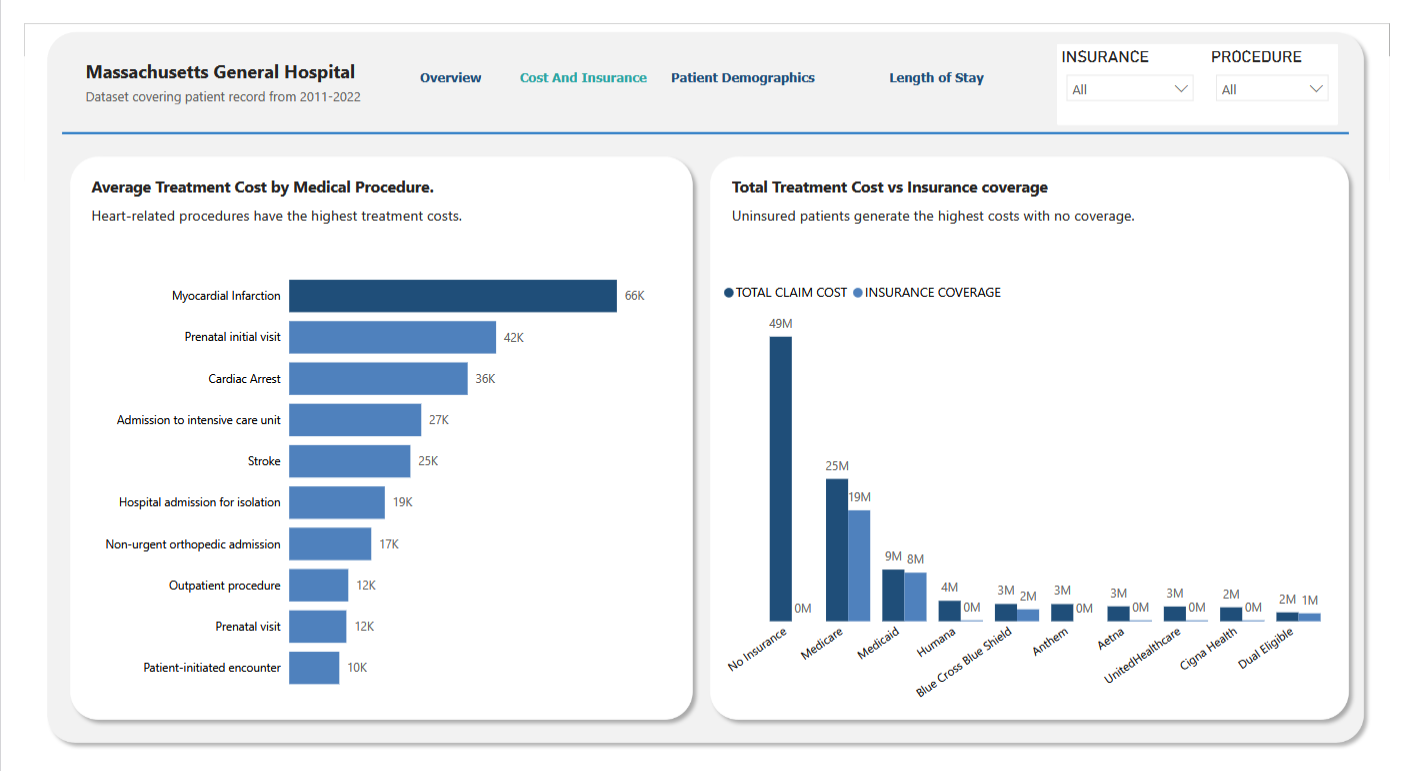

Layout of this report page (visuals, bound fields, positions):
{"tool":"powerbi","page":{"name":"COST AND INSURANCE","canvas":[1405,750],"ordinal":1},"visuals":[{"type":"shape","box":[14,0,1374.5,749.6],"z":0},{"type":"textbox","title":"Massachusetts General Hospital","box":[56.7,36.2,315,77.2],"z":1000},{"type":"shape","box":[37.8,105.5,1326.1,14.2],"z":2000},{"type":"actionButton","box":[377.2,35.4,122.7,40.4],"z":3000},{"type":"actionButton","box":[500.2,35.8,149.6,40.5],"z":4000},{"type":"actionButton","box":[649.9,35.8,179.2,40.5],"z":5000},{"type":"actionButton","box":[829.1,35.8,219.7,40.5],"z":6000},{"type":"shape","box":[37.4,127.8,659.2,598.4],"z":7000},{"type":"shape","box":[696.6,127.8,676.3,598.4],"z":8000},{"type":"clusteredColumnChart","fields":{"Category":["payers.NAME"],"Y":["Sum(encounters.TOTAL_CLAIM_COST)","Sum(encounters.PAYER_COVERAGE)"]},"box":[713.7,257.1,649.9,462.8],"z":9000},{"type":"shape","box":[1063.2,21.1,290.1,84.3],"z":11000},{"type":"slicer","title":"INSURANCE","fields":{"Values":["payers.NAME"]},"box":[1063.2,24.3,150.7,77.8],"z":12000},{"type":"slicer","title":"PROCEDURE","fields":{"Values":["procedures.DESCRIPTION"]},"box":[1217.2,24.3,136.1,77.8],"z":13000},{"type":"barChart","fields":{"Category":["encounters.DESCRIPTION"],"Y":["encounters.Avg Cost"]},"box":[63.9,233.8,586,469.1],"z":14000},{"type":"textbox","box":[63.2,152.4,521.9,42.1],"z":15000},{"type":"textbox","box":[722.9,152.4,624,58.3],"z":16000},{"type":"textbox","box":[722.9,181.5,640.2,76.2],"z":17000},{"type":"textbox","box":[63.2,181.5,586.7,60],"z":18000}]}

Visuals, with their boxes in screenshot pixels (x1, y1, x2, y2), scaled from the page's 1405x750 canvas onto the 1407x771 screenshot:
shape: [x1=14, y1=0, x2=1390, y2=770]
"Massachusetts General Hospital" textbox: [x1=57, y1=37, x2=372, y2=117]
shape: [x1=38, y1=108, x2=1366, y2=123]
actionButton: [x1=378, y1=36, x2=501, y2=78]
actionButton: [x1=501, y1=37, x2=651, y2=78]
actionButton: [x1=651, y1=37, x2=830, y2=78]
actionButton: [x1=830, y1=37, x2=1050, y2=78]
shape: [x1=37, y1=131, x2=698, y2=747]
shape: [x1=698, y1=131, x2=1375, y2=747]
clusteredColumnChart - payers.NAME x Sum(encounters.TOTAL_CLAIM_COST): [x1=715, y1=264, x2=1366, y2=740]
shape: [x1=1065, y1=22, x2=1355, y2=108]
"INSURANCE" slicer: [x1=1065, y1=25, x2=1216, y2=105]
"PROCEDURE" slicer: [x1=1219, y1=25, x2=1355, y2=105]
barChart - encounters.DESCRIPTION x encounters.Avg Cost: [x1=64, y1=240, x2=651, y2=723]
textbox: [x1=63, y1=157, x2=586, y2=200]
textbox: [x1=724, y1=157, x2=1349, y2=217]
textbox: [x1=724, y1=187, x2=1365, y2=265]
textbox: [x1=63, y1=187, x2=651, y2=248]
